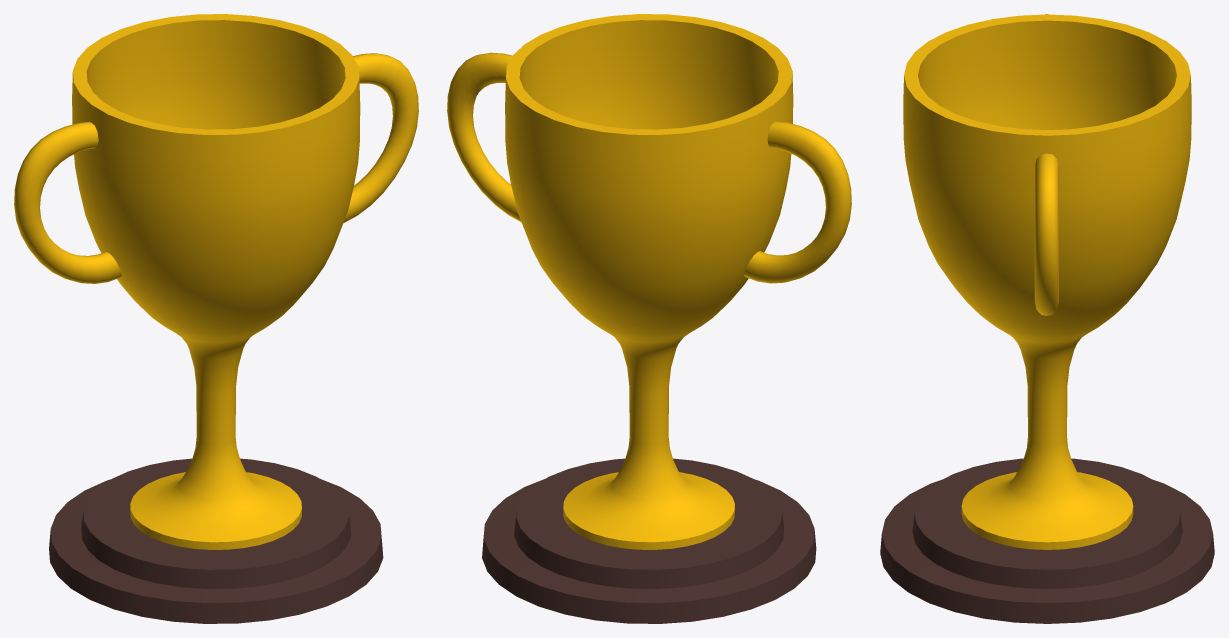
Rendered from trophy.gltf.
The picture shows the model from 3 angles, left to right: view 1: azimuth 30°, elevation 25°; view 2: azimuth 150°, elevation 25°; view 3: azimuth 270°, elevation 25°; orthographic projection.
Parts seen in each view (by area): view 1: Circle.280; view 2: Circle.280; view 3: Circle.280.
Part boxes in pixels (box(x1,y1,x2,y2)): Circle.280: box(14, 14, 418, 623); Circle.280: box(447, 14, 851, 623); Circle.280: box(880, 14, 1214, 623).
Bounding box in the file's own units: 1.82 × 2.08 × 1.32.
Materials: 1 (1 with a texture image).
